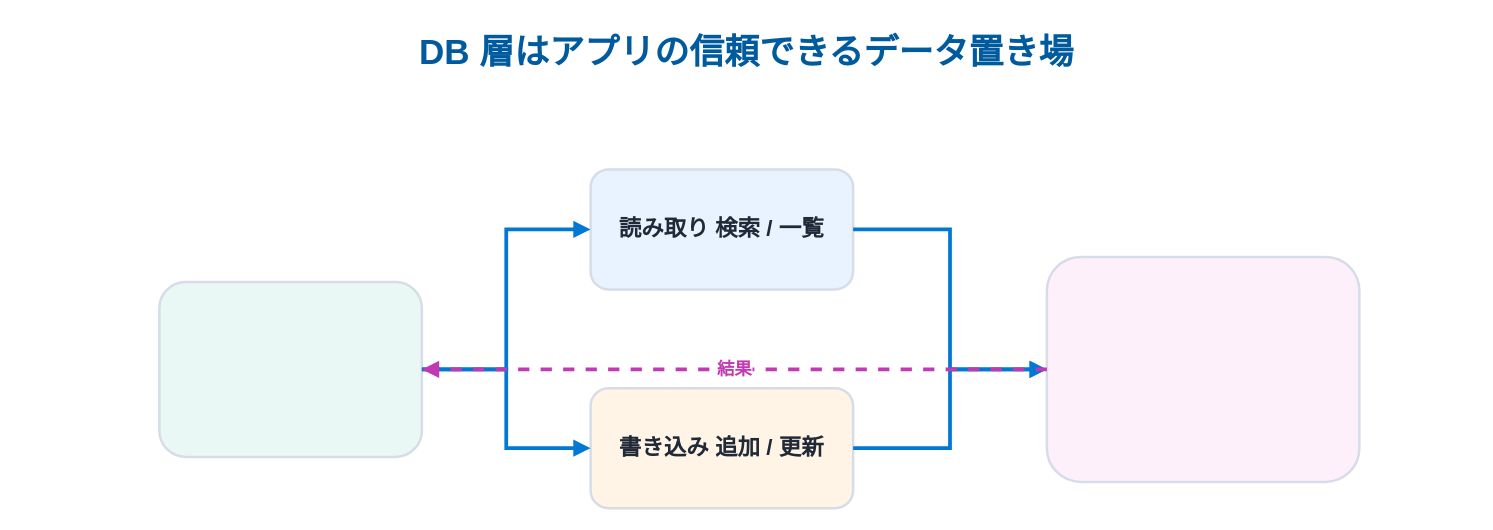
Image size: 1493x530. Some labels were removed from this diagram. The shapes that lost their labels are listed below. From the top down, each one's centre as x and y in pixels, then its label:
At pixel 290 369: "AP 層 処理の実行".
At pixel 1202 368: "DB 層 保存・検索 整合性 同時アクセス".
